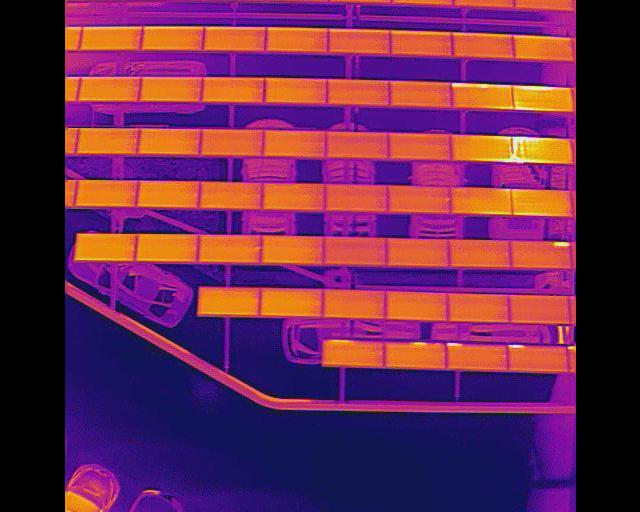Cell: (383, 342, 445, 369), (510, 0, 573, 12)
No-Anomaly: (384, 292, 448, 322), (321, 290, 385, 320), (508, 189, 573, 218), (259, 236, 323, 265), (445, 294, 509, 323), (388, 79, 452, 108), (322, 185, 388, 213), (447, 188, 513, 216), (262, 130, 324, 159), (136, 234, 198, 263), (325, 79, 389, 107), (320, 340, 384, 368), (197, 182, 261, 210), (196, 236, 260, 264), (447, 239, 511, 267), (386, 133, 452, 160), (385, 186, 451, 213), (259, 289, 322, 317), (385, 238, 448, 266), (199, 129, 262, 157), (263, 78, 328, 105), (324, 238, 386, 266), (136, 181, 198, 209), (325, 132, 389, 159), (507, 296, 571, 323), (134, 130, 200, 156), (74, 234, 135, 262), (265, 27, 328, 54), (198, 288, 258, 316), (261, 184, 323, 211), (326, 30, 390, 56), (450, 33, 514, 59), (389, 31, 453, 57), (202, 27, 265, 53), (512, 36, 574, 62), (137, 77, 201, 102), (202, 78, 265, 103), (74, 182, 136, 207), (79, 27, 142, 51), (76, 77, 139, 101), (141, 27, 203, 51), (75, 130, 137, 154), (387, 0, 454, 6)
Unclassified: (508, 241, 571, 269), (448, 134, 511, 162), (510, 137, 572, 165), (506, 345, 568, 373), (446, 343, 508, 371), (449, 83, 513, 109), (510, 86, 572, 112), (452, 0, 514, 8)
